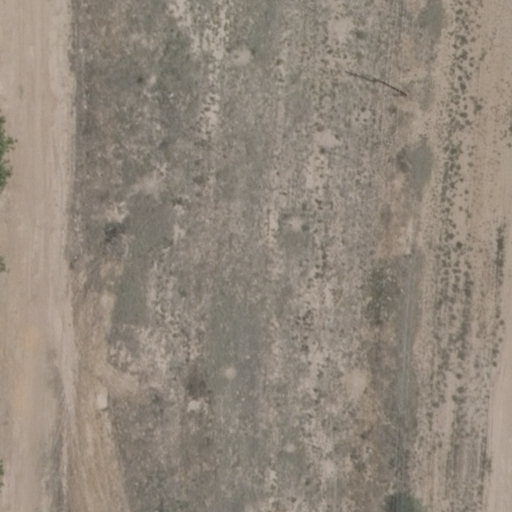DT: (391, 87, 414, 103)
